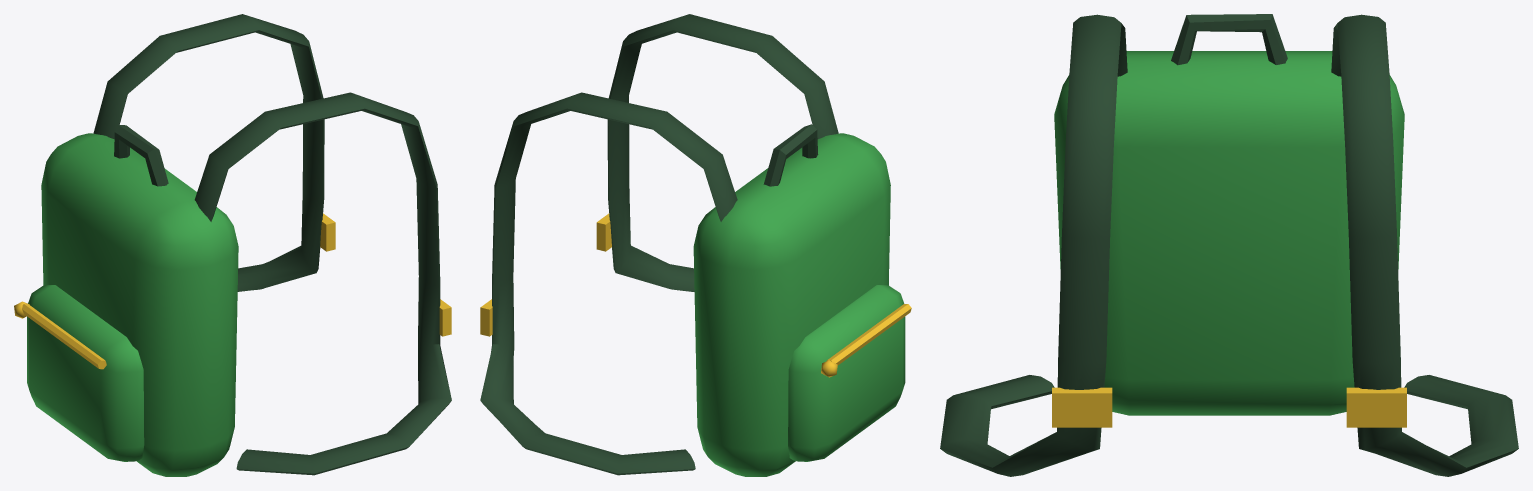
Rendered from acc_backpack.glb.
The picture shows the model from 3 angles, left to right: view 1: azimuth 30°, elevation 25°; view 2: azimuth 150°, elevation 25°; view 3: azimuth 270°, elevation 25°; orthographic projection. The views are drawn at different scales.
Parts seen in each view (by area): view 1: Backpack; view 2: Backpack; view 3: Backpack.
Boxes of the visible parts, left/top/right/bottom form: Backpack: left=14, top=14, right=451, bottom=476; Backpack: left=480, top=14, right=911, bottom=476; Backpack: left=940, top=14, right=1518, bottom=476.
Size of the model in its own units: 0.6333 by 0.6458 by 0.7667.
